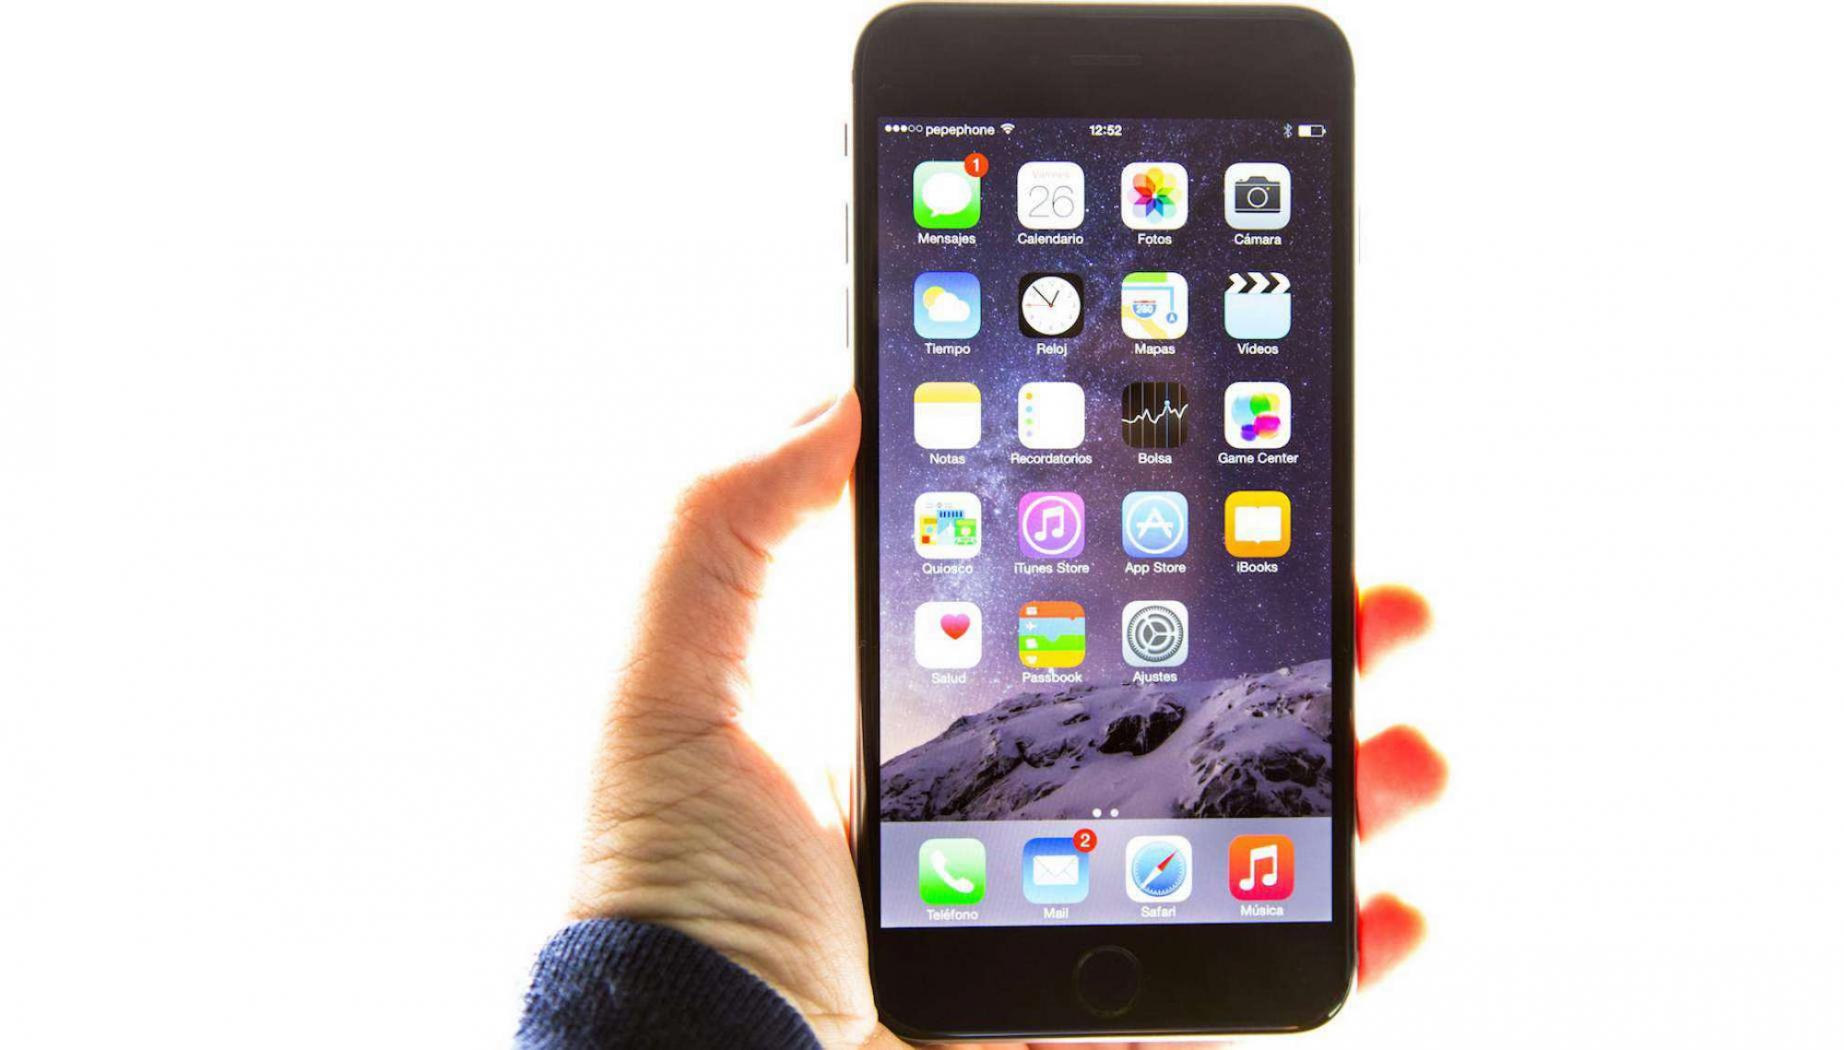smartphone: (841, 1, 1356, 1040)
